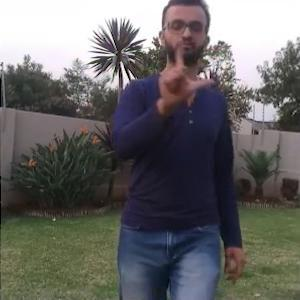land_hand: (156, 33, 216, 102)
